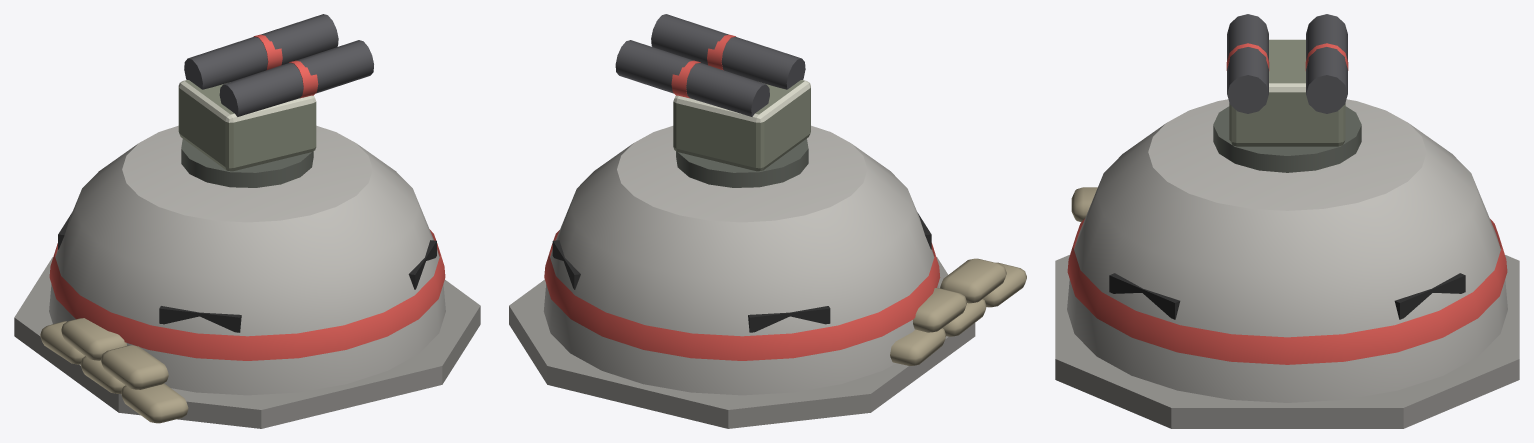
The model's file is rocket_bunker_red.glb.
3 renders of one model, left to right at view 1: azimuth 30°, elevation 25°; view 2: azimuth 150°, elevation 25°; view 3: azimuth 270°, elevation 25°, orthographic. The views are drawn at different scales.
Parts seen in each view (by area): view 1: Body, Turret, Barrel; view 2: Body, Turret, Barrel; view 3: Body, Turret, Barrel.
Boxes of the visible parts, box(x1,y1,x2,y2) form: Body: box(14, 125, 480, 428); Turret: box(178, 80, 316, 187); Barrel: box(184, 14, 373, 116); Body: box(509, 125, 1026, 428); Turret: box(673, 80, 810, 187); Barrel: box(615, 14, 805, 116); Body: box(1055, 99, 1519, 428); Turret: box(1213, 39, 1361, 172); Barrel: box(1226, 14, 1348, 113).
Bounding box in the file's own units: 2.07 × 1.47 × 2.
Materials: 1 (1 with a texture image).
